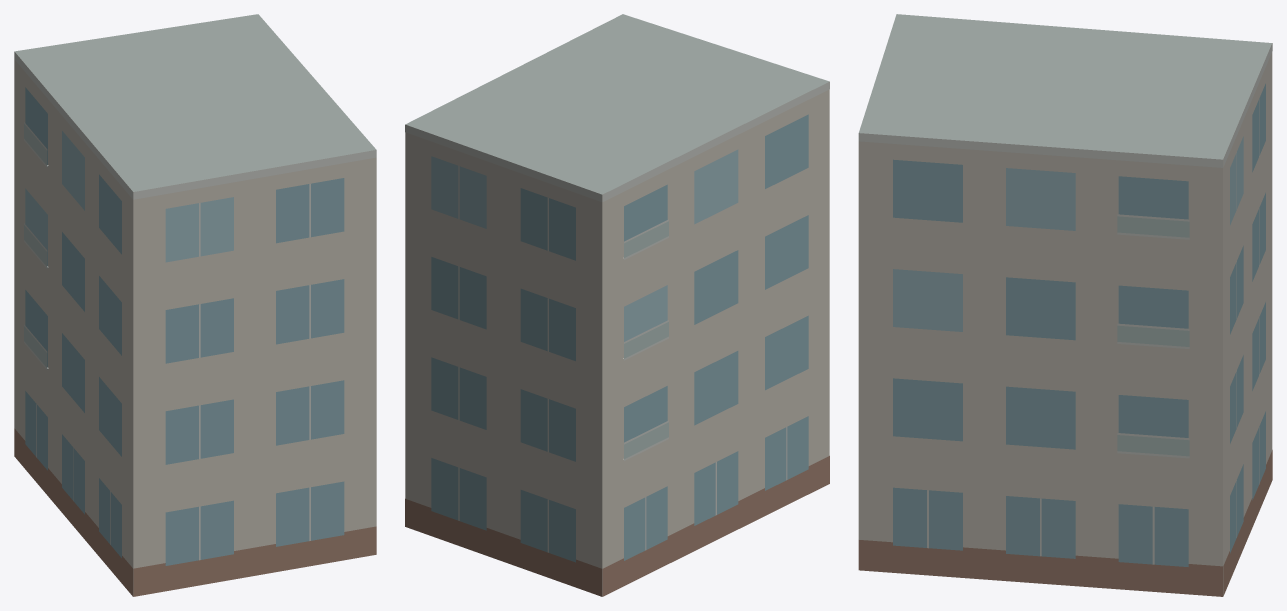
File: survey-upis-33041408.glb
3 views of the same model, side by side, from view 1: azimuth 30°, elevation 25°; view 2: azimuth 150°, elevation 25°; view 3: azimuth 270°, elevation 25° (orthographic). The views are drawn at different scales.
Parts seen in each view (by area): view 1: survey-upis-33041408.tmp; view 2: survey-upis-33041408.tmp; view 3: survey-upis-33041408.tmp.
Boxes of the visible parts, box(x1,y1,x2,y2) form: survey-upis-33041408.tmp: box(14, 14, 376, 596); survey-upis-33041408.tmp: box(405, 14, 829, 596); survey-upis-33041408.tmp: box(858, 14, 1272, 596).
Size of the model in its own units: 9.15 by 12.8 by 10.99.
